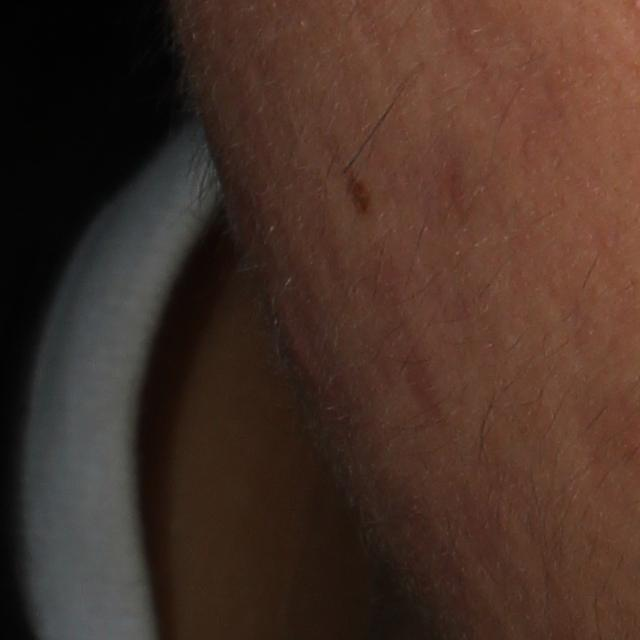nevus: (343, 166, 379, 221)
